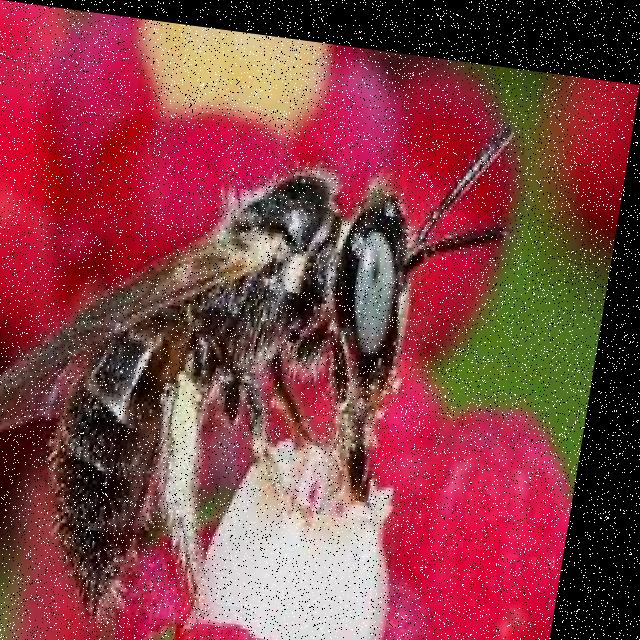Braunsapis: (0, 52, 541, 640)
